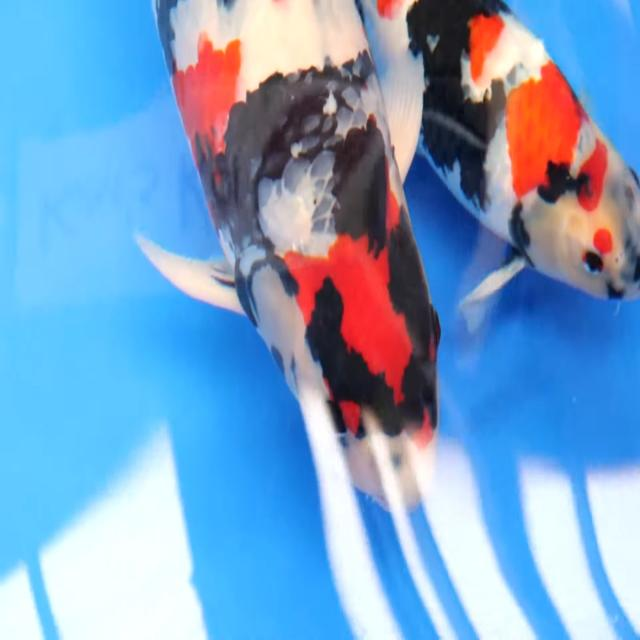Showa: (136, 0, 442, 516), (404, 0, 639, 331)
